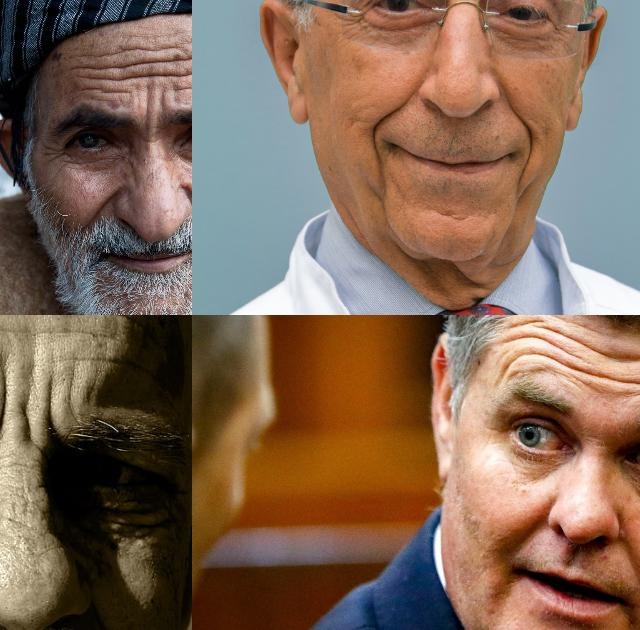chin: (433, 203, 475, 228)
crows_feet: (340, 13, 368, 43), (39, 140, 65, 164), (552, 20, 568, 54)
forehead: (150, 42, 190, 88), (595, 366, 640, 398), (501, 345, 547, 375), (112, 46, 146, 84), (594, 338, 640, 364), (553, 339, 581, 381), (76, 56, 110, 90), (508, 315, 541, 338), (93, 315, 136, 327)
frown_line: (40, 382, 62, 432), (0, 368, 16, 435), (16, 404, 36, 448), (140, 99, 156, 131), (447, 0, 476, 5)
gummy_smile: (370, 86, 414, 132), (500, 88, 536, 144), (90, 189, 114, 229)
sad_smile: (363, 138, 391, 178), (516, 154, 538, 201)
